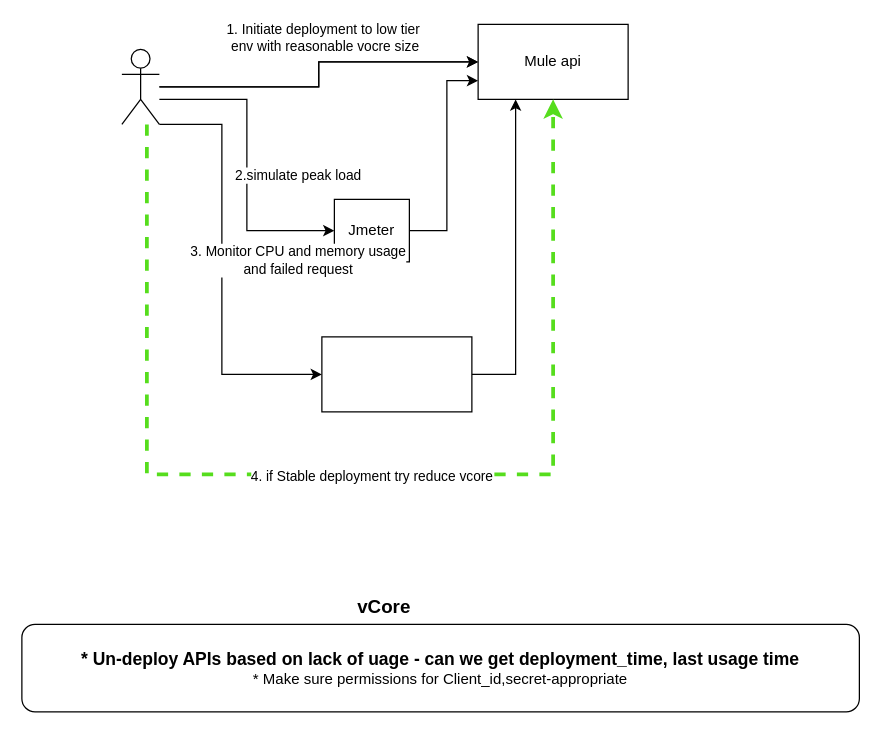
Image size: 881x734. Some labels were removed from this diagram. The shapes that lost their labels are listed below. From the top down, each one's centre as x and y in pixels, then its label:
At pixel 140 86: "Admin".
At pixel 396 374: "API Monitoring".
